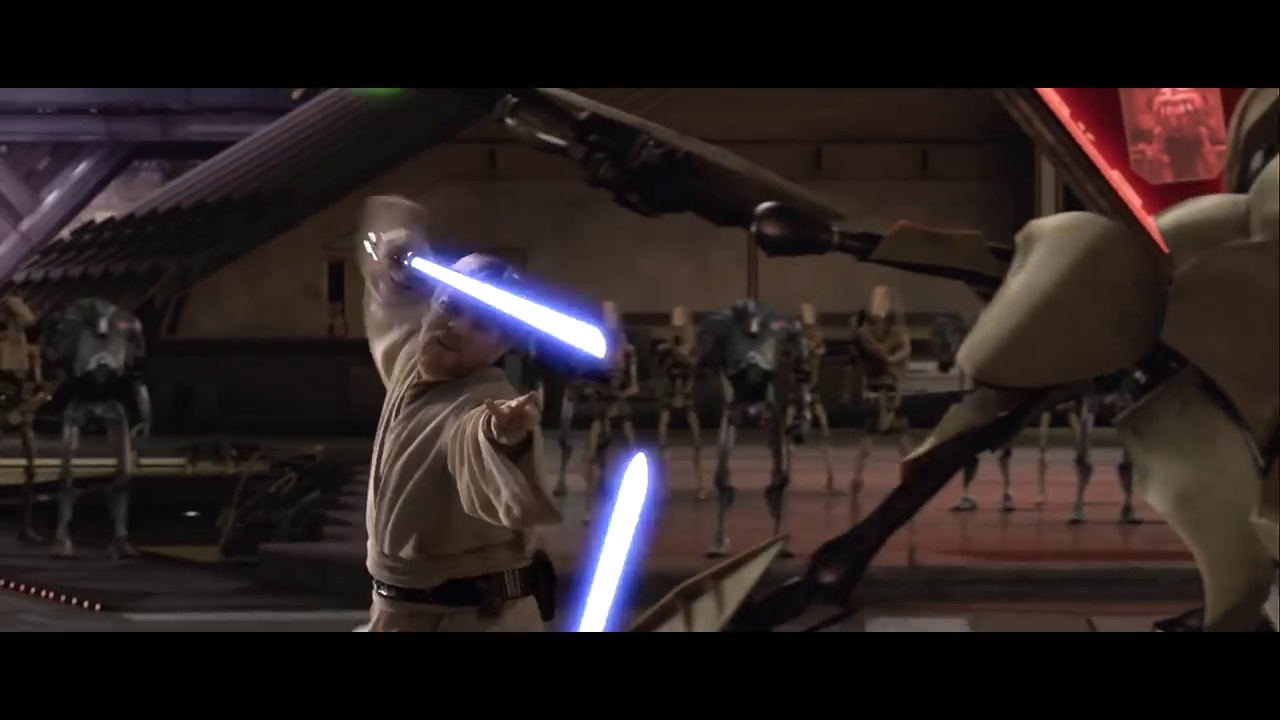lightsaber: (357, 230, 618, 371), (541, 459, 673, 639)
